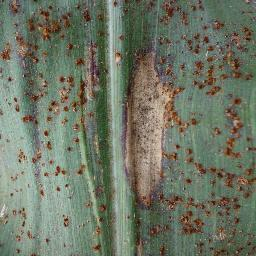Corn_Blight: (1, 0, 107, 178), (126, 37, 175, 211), (134, 212, 256, 256), (189, 16, 256, 95), (217, 96, 242, 211), (177, 144, 215, 210), (86, 183, 111, 254), (174, 0, 187, 99), (113, 0, 173, 21), (243, 130, 256, 211), (0, 230, 34, 256), (0, 203, 26, 230), (176, 111, 201, 134), (7, 183, 34, 198), (235, 0, 256, 16), (187, 0, 209, 14), (114, 31, 129, 44), (60, 211, 71, 227), (52, 183, 68, 194), (35, 183, 46, 199), (116, 49, 125, 68), (40, 236, 50, 245), (59, 243, 66, 251)
